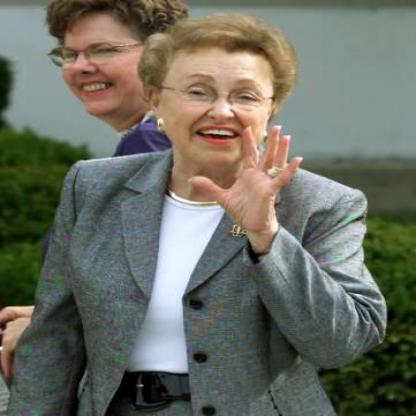face: (163, 26, 283, 168), (50, 1, 153, 119)
